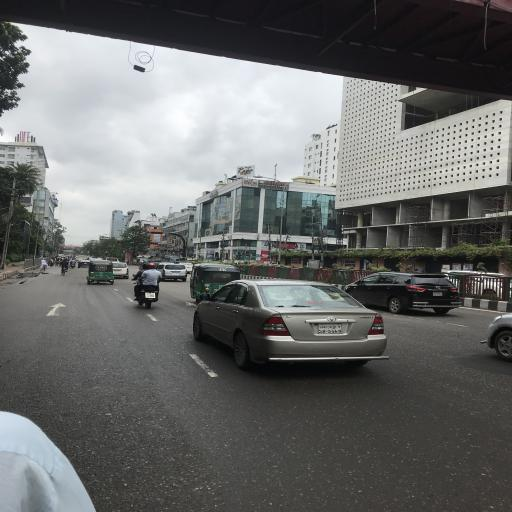bicycle: (60, 266, 70, 277)
bus: (164, 256, 182, 263)
car: (195, 278, 389, 376), (156, 265, 190, 284), (115, 263, 131, 280), (78, 260, 90, 269)
motorbike: (135, 285, 164, 312), (70, 264, 78, 270)
pickup: (78, 256, 88, 261)
rickshaw: (55, 258, 64, 269)
suv: (343, 273, 464, 316), (140, 259, 147, 265)
three wheelers (CNG): (189, 265, 225, 300), (87, 260, 116, 286)
